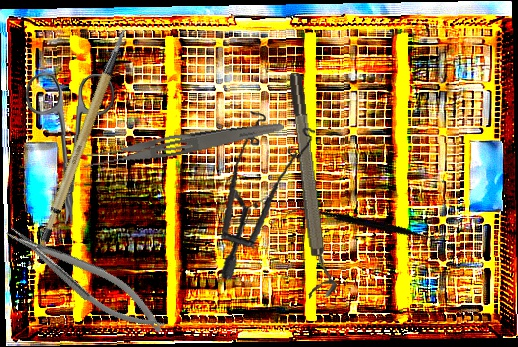Dressing Forceps: (80, 112, 286, 174)
Fixation Ring: (285, 71, 338, 299)
Iris Scissors: (21, 71, 115, 227)
Needle Holder: (0, 210, 173, 347)
Scalpel Handle: (13, 26, 160, 246)
Spatula Surgical: (285, 160, 452, 290)
Speculum: (201, 103, 332, 281)
